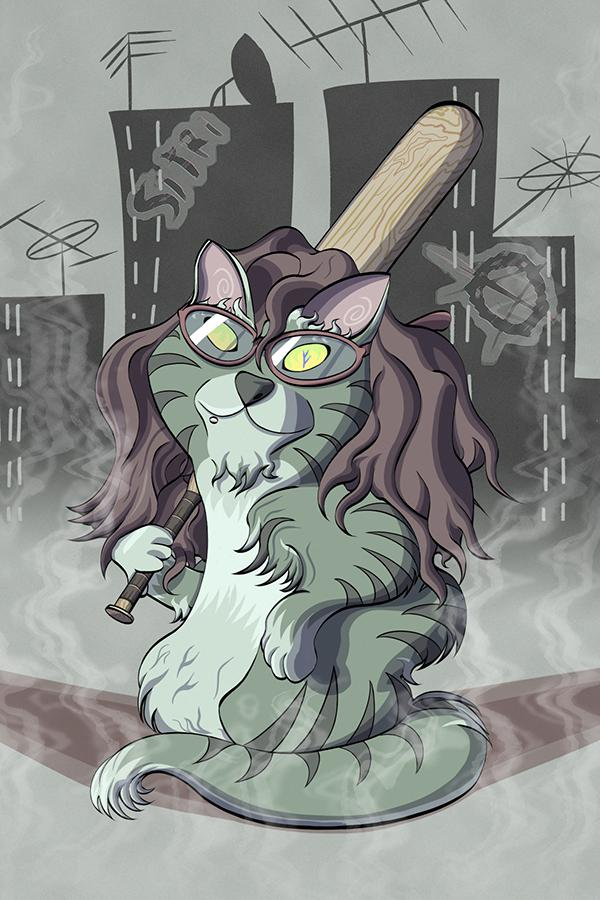cat: (72, 219, 505, 831)
